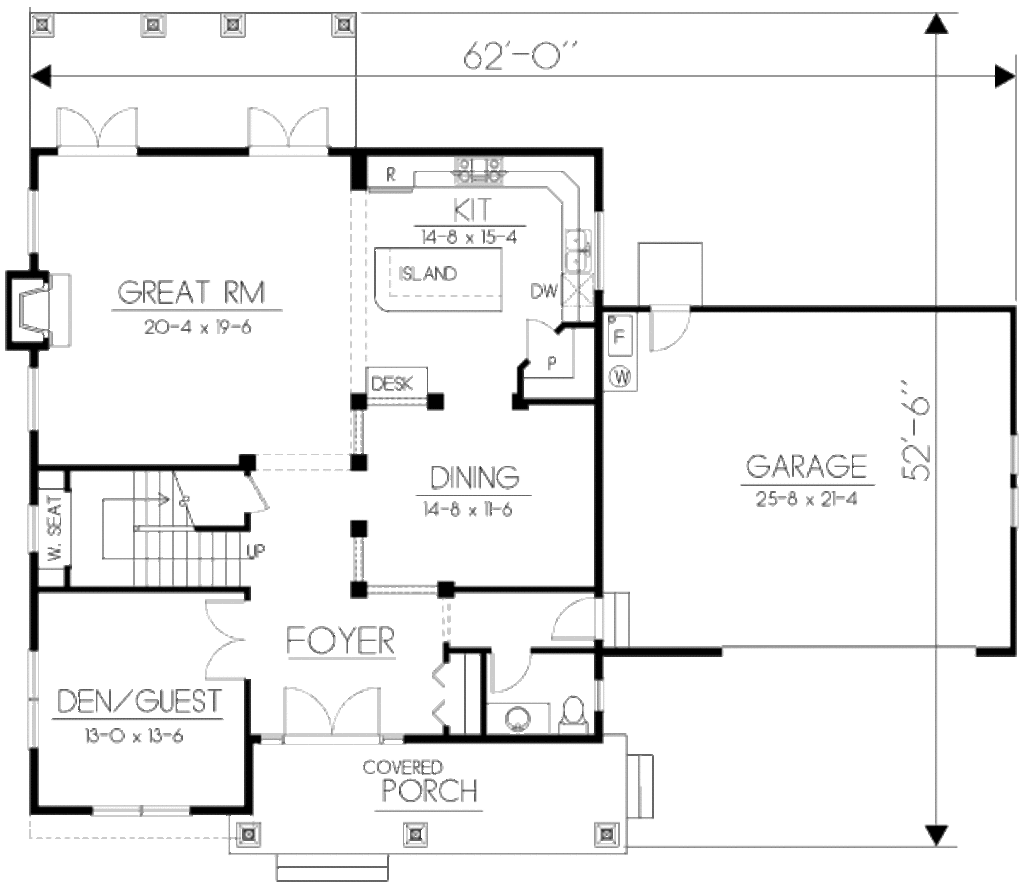door: (275, 679, 393, 746), (45, 98, 158, 159), (197, 592, 263, 685), (238, 99, 337, 157), (550, 587, 635, 644), (484, 646, 545, 702), (517, 309, 565, 362), (641, 306, 694, 353), (240, 466, 278, 519)
kitchen_bar: (368, 233, 515, 320)
stairs: (54, 461, 248, 592)
twin_sink: (557, 223, 607, 292)
window: (20, 649, 56, 757), (90, 799, 189, 820), (25, 185, 48, 264), (1006, 431, 1024, 525), (25, 499, 45, 560), (26, 368, 46, 428)
